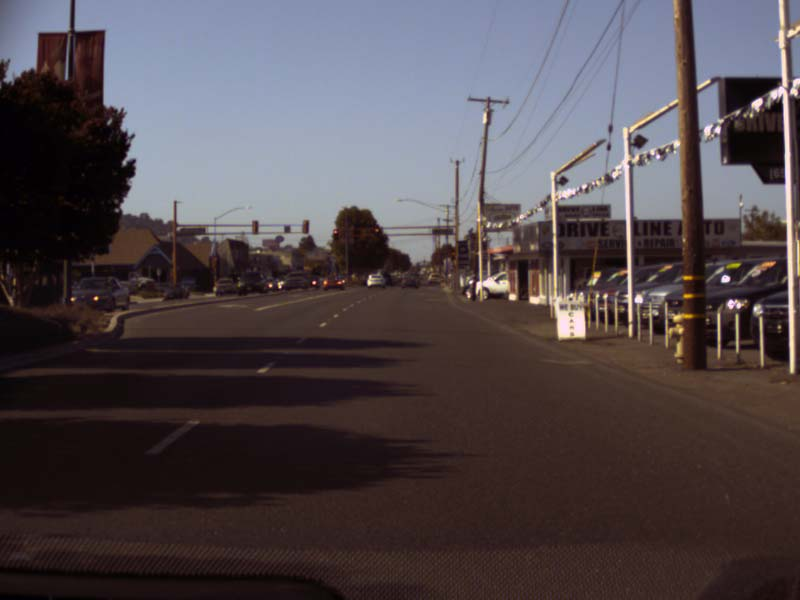Red: (333, 229, 338, 240), (374, 227, 379, 237)
